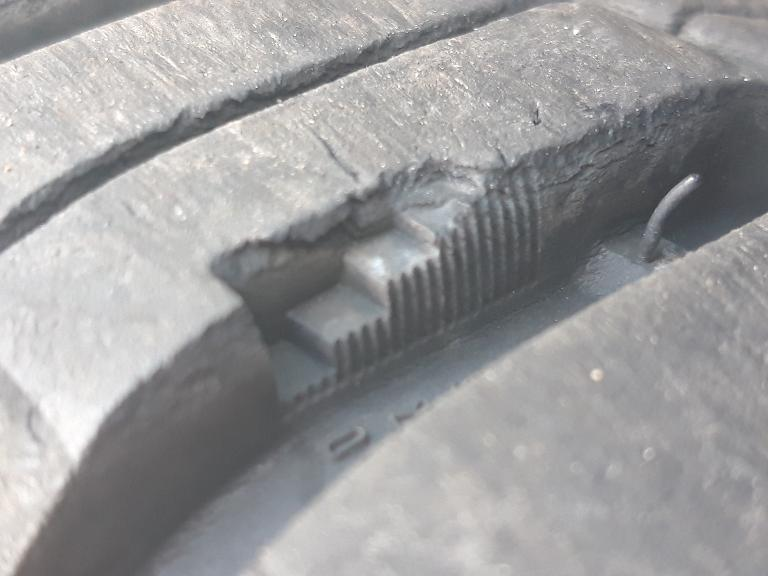temoin:80: (191, 123, 558, 433)
